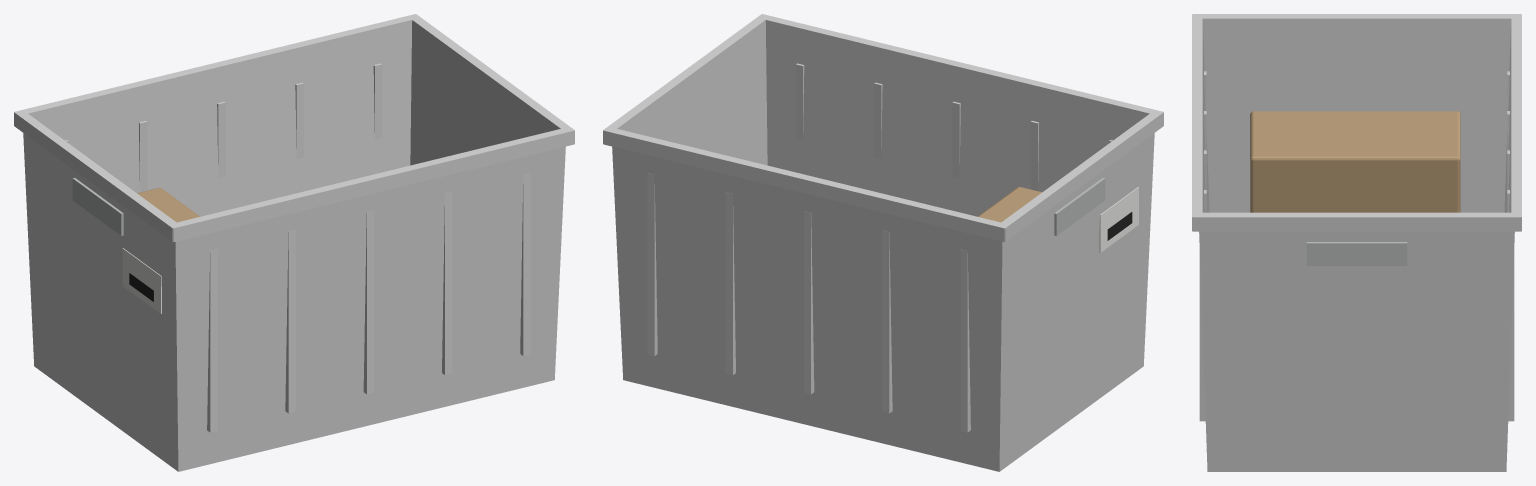
Rendered from rapyuta_bin_v1.glb.
3 views of the same model, side by side, from view 1: azimuth 30°, elevation 25°; view 2: azimuth 150°, elevation 25°; view 3: azimuth 270°, elevation 25° (orthographic). The views are drawn at different scales.
Parts seen in each view (by area): view 1: RapyutaBin_v1; view 2: RapyutaBin_v1; view 3: RapyutaBin_v1.
Boxes of the visible parts, bbox=[...] form: RapyutaBin_v1: bbox=[14, 14, 574, 471]; RapyutaBin_v1: bbox=[603, 14, 1163, 471]; RapyutaBin_v1: bbox=[1192, 14, 1521, 471].
Size of the model in its own units: 0.668 by 0.4 by 0.458.
